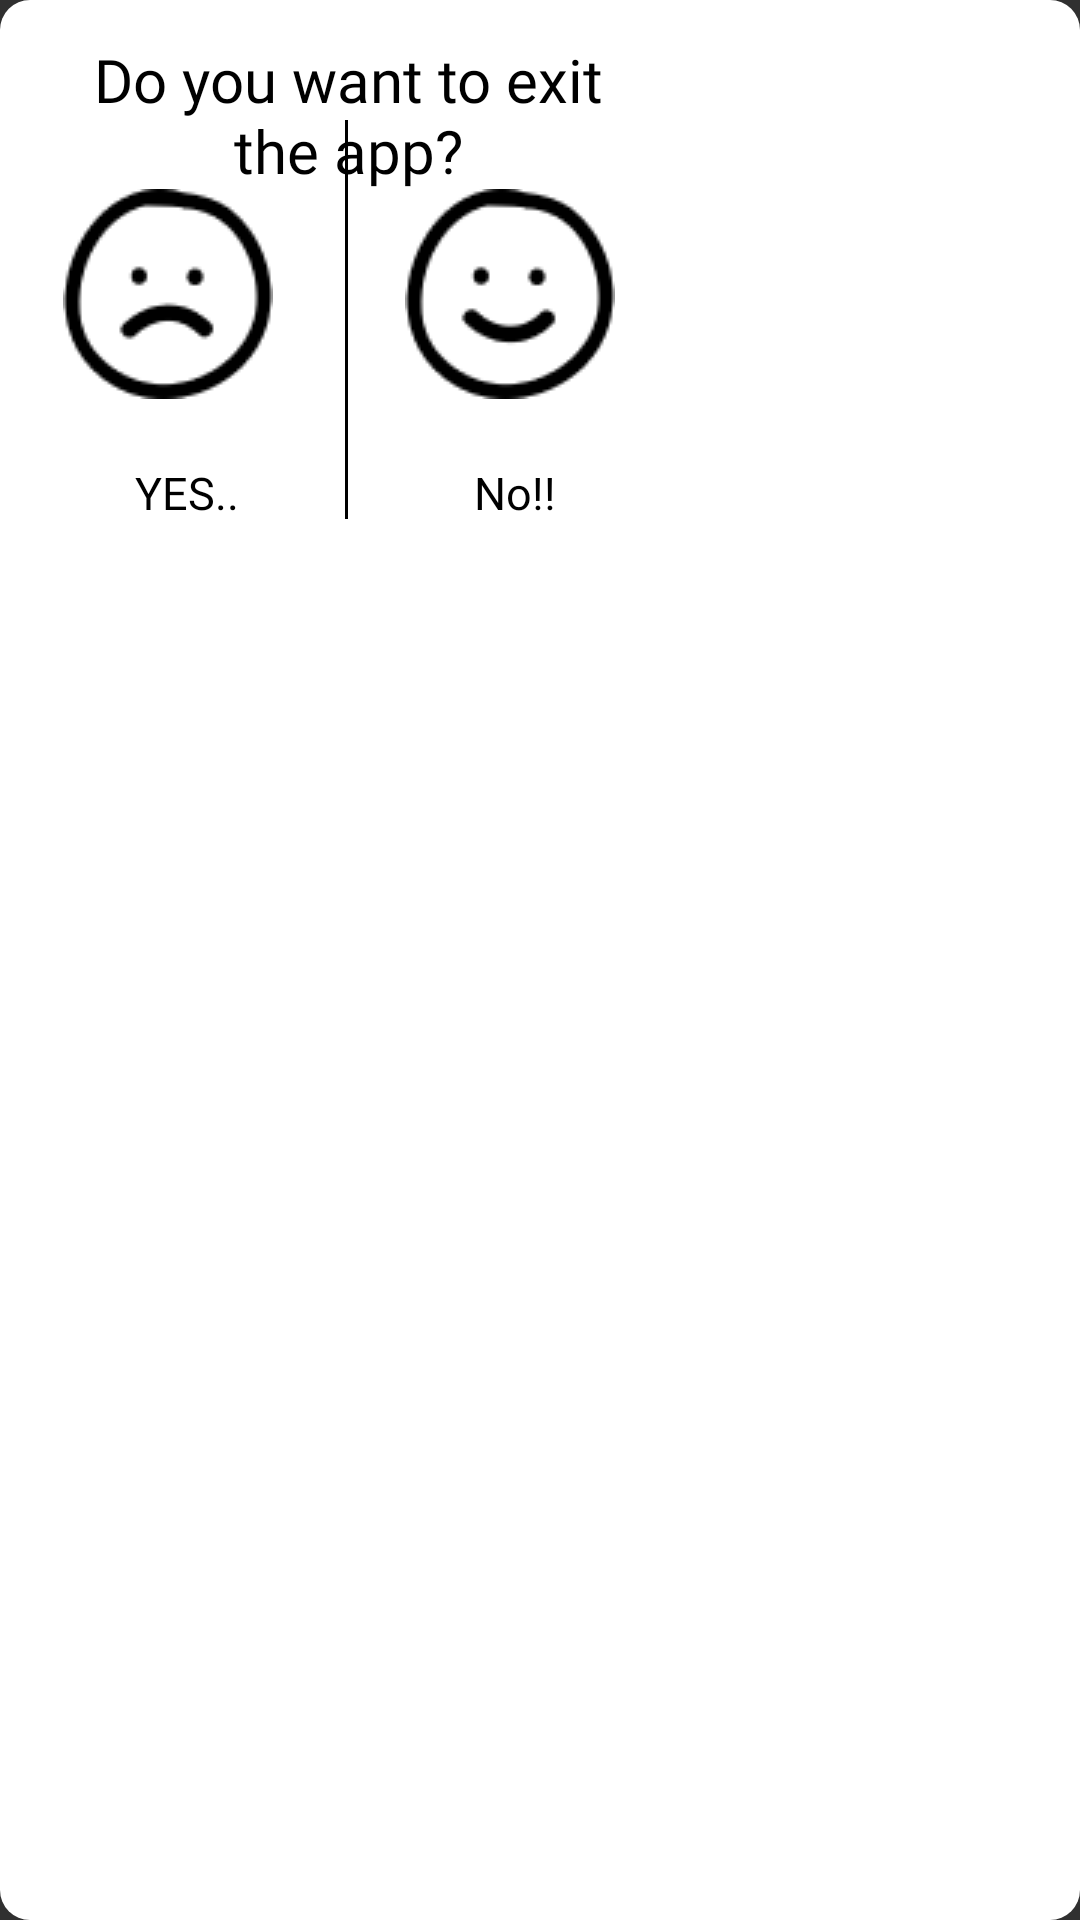

Named icons in this screenshot (1080px×1920px) and their centers, [x,y]:
sad: [168,294]
smile: [510,294]
